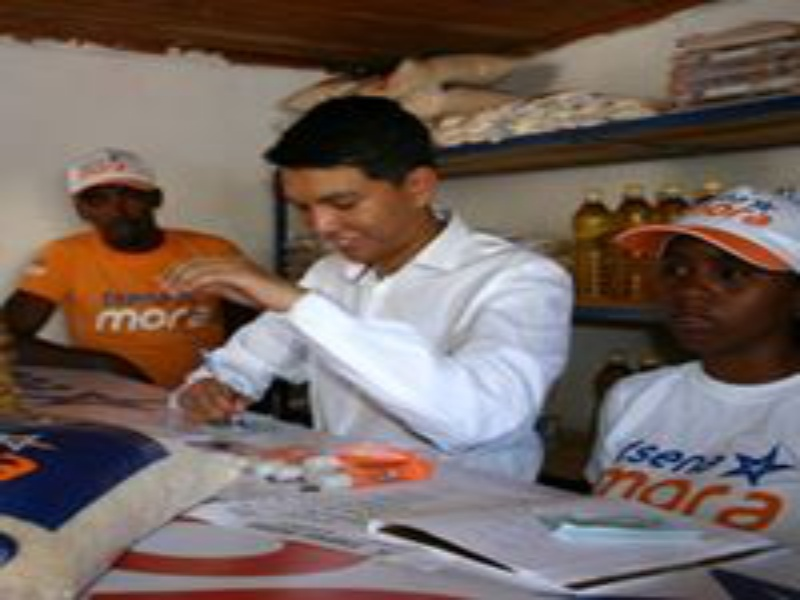TsisyArotava: (261, 99, 422, 284), (635, 179, 777, 365)
